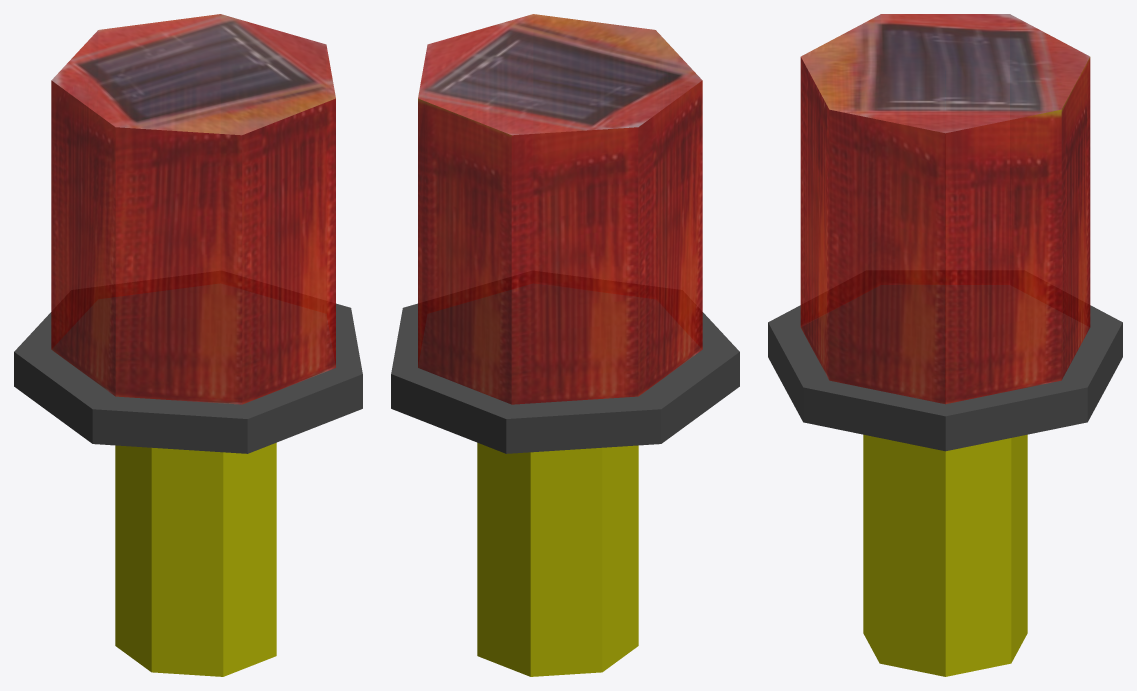
The model's file is Ligh Three.fbx.
3 views of the same model, side by side, from view 1: azimuth 30°, elevation 25°; view 2: azimuth 150°, elevation 25°; view 3: azimuth 270°, elevation 25° (orthographic).
Parts seen in each view (by area): view 1: Light; view 2: Light; view 3: Light.
Boxes of the visible parts, x1,y1,x2,y2 form: Light: (14, 14, 362, 676); Light: (391, 14, 739, 676); Light: (768, 14, 1122, 676).
Bounding box in the file's own units: 4.11 × 7.48 × 4.21.
4 materials, 1 textured.
